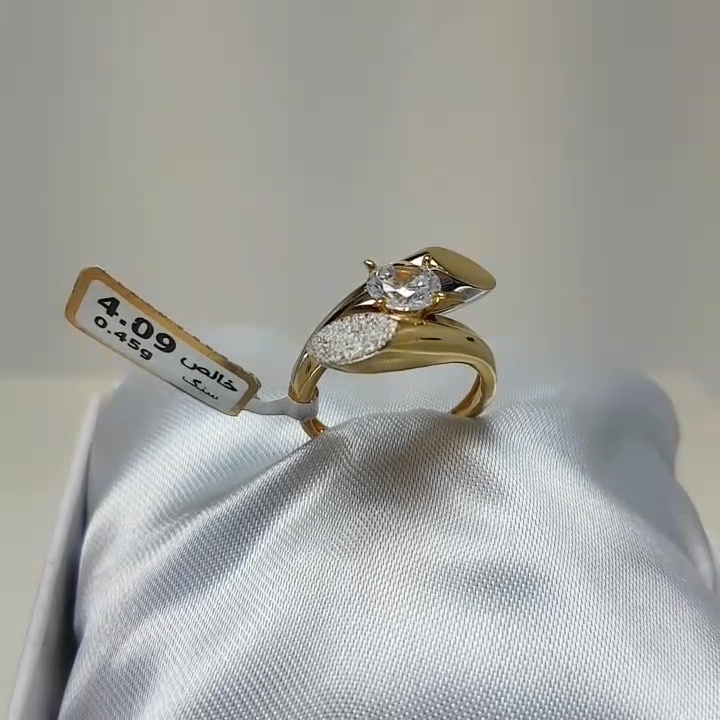Ring 7: (275, 232, 506, 456)
